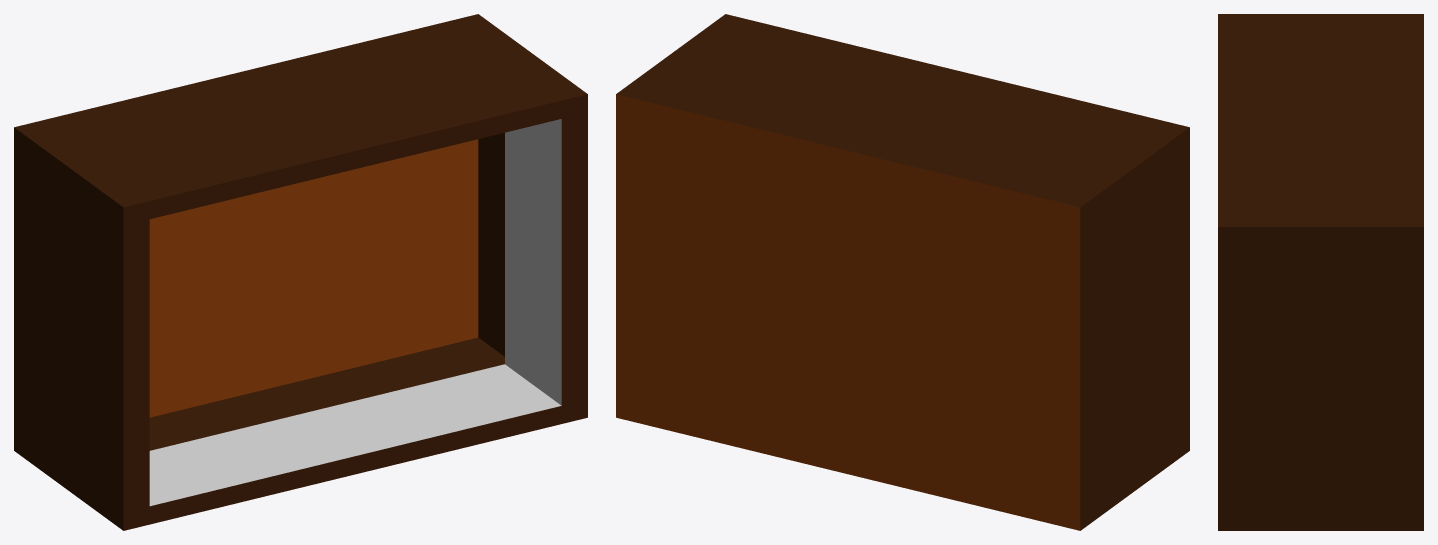
Rendered from GearBox.fbx.
3 views of the same model, side by side, from view 1: azimuth 30°, elevation 25°; view 2: azimuth 150°, elevation 25°; view 3: azimuth 270°, elevation 25° (orthographic). The views are drawn at different scales.
Parts seen in each view (by area): view 1: Cog Box; view 2: Cog Box; view 3: Cog Box.
Boxes of the visible parts, x1,y1,x2,y2 form: Cog Box: (14, 14, 587, 530); Cog Box: (616, 14, 1189, 530); Cog Box: (1218, 14, 1423, 530).
Size of the model in its own units: 284 by 189 by 116.
